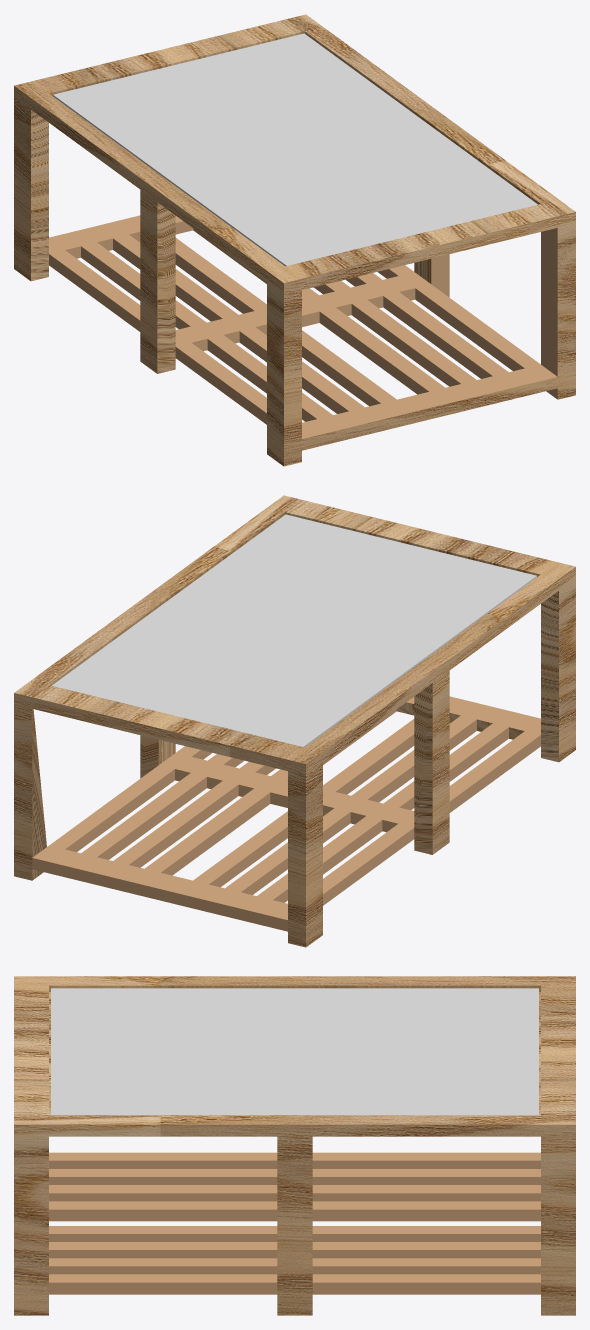
Rendered from patiotable2.fbx.
The picture shows the model from 3 angles, top to bottom: view 1: azimuth 30°, elevation 25°; view 2: azimuth 150°, elevation 25°; view 3: azimuth 270°, elevation 25°; orthographic projection. The views are drawn at different scales.
Visible parts, largest first — view 1: Cube, Plane; view 2: Cube, Plane; view 3: Cube, Plane.
Part boxes in pixels (x1,y1,x2,y2): Cube: (14,14,575,466); Plane: (53,33,537,266); Cube: (14,495,575,947); Plane: (52,514,536,747); Cube: (14,976,575,1315); Plane: (51,988,538,1115).
Bounding box in the file's own units: 200 × 120 × 320.
